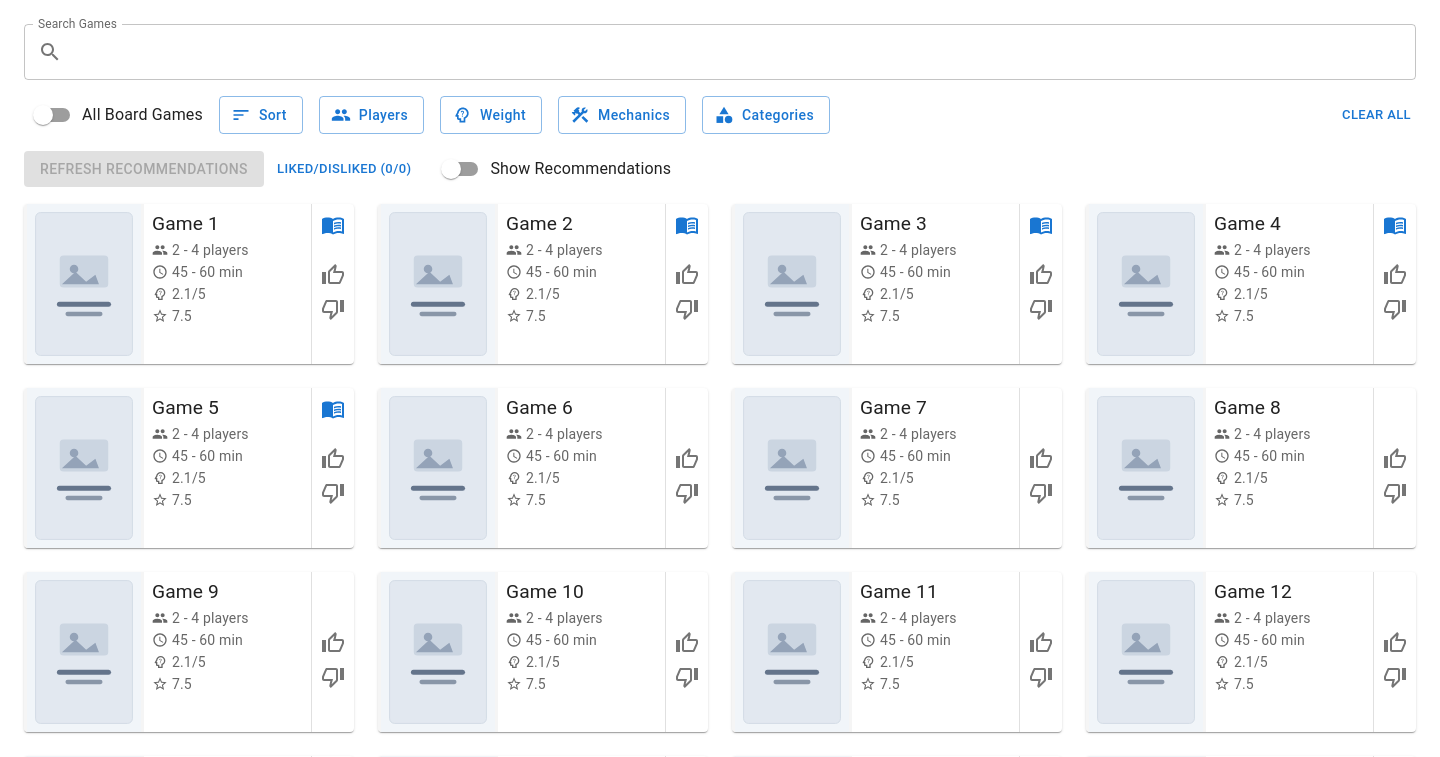
it: GameList › shows clear search control and clears input when clicked
In the field labelled "Search Games": [743, 52] box x1=70 y1=24 x2=1416 y2=80, type "Terraforming Mars"
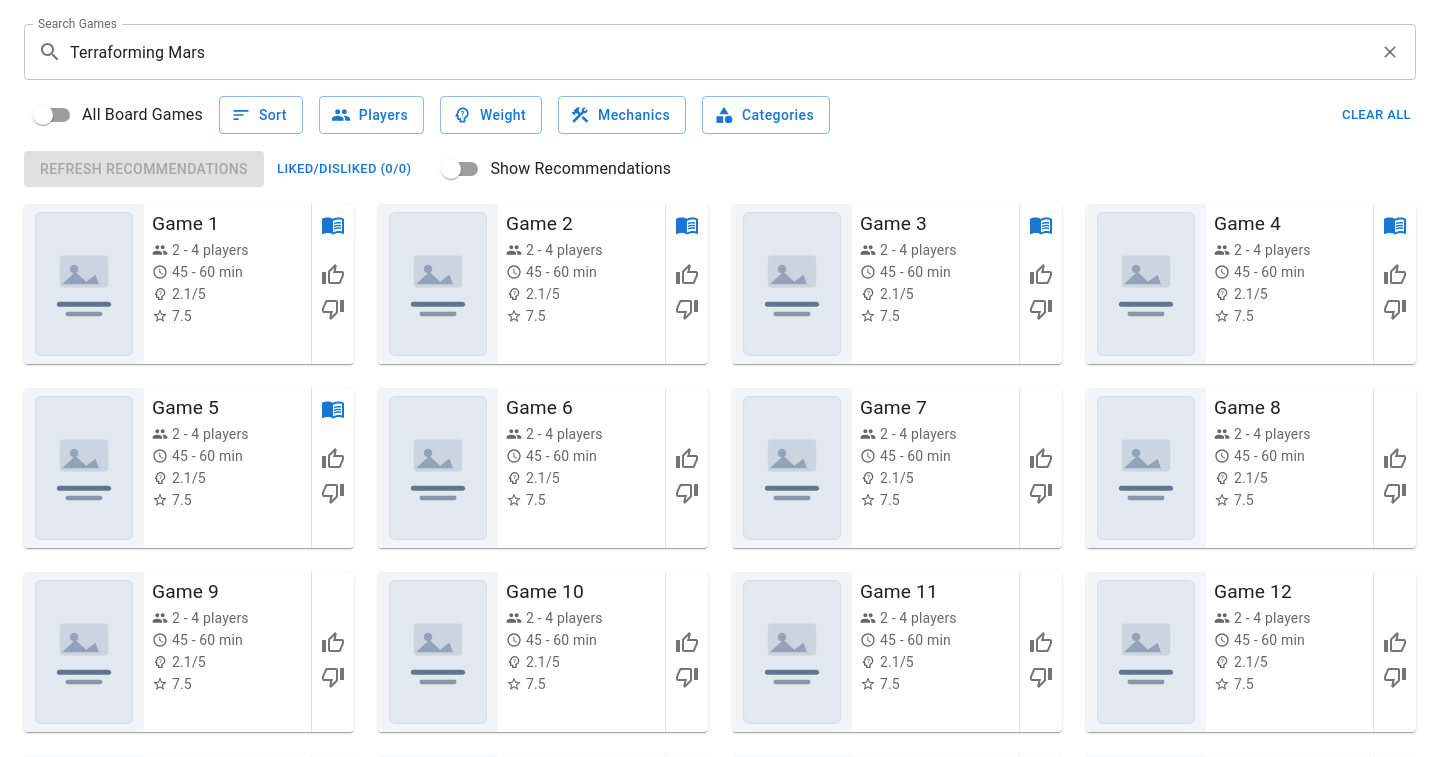
Click the button named "Clear search": [1390, 52] box x1=1375 y1=37 x2=1405 y2=67
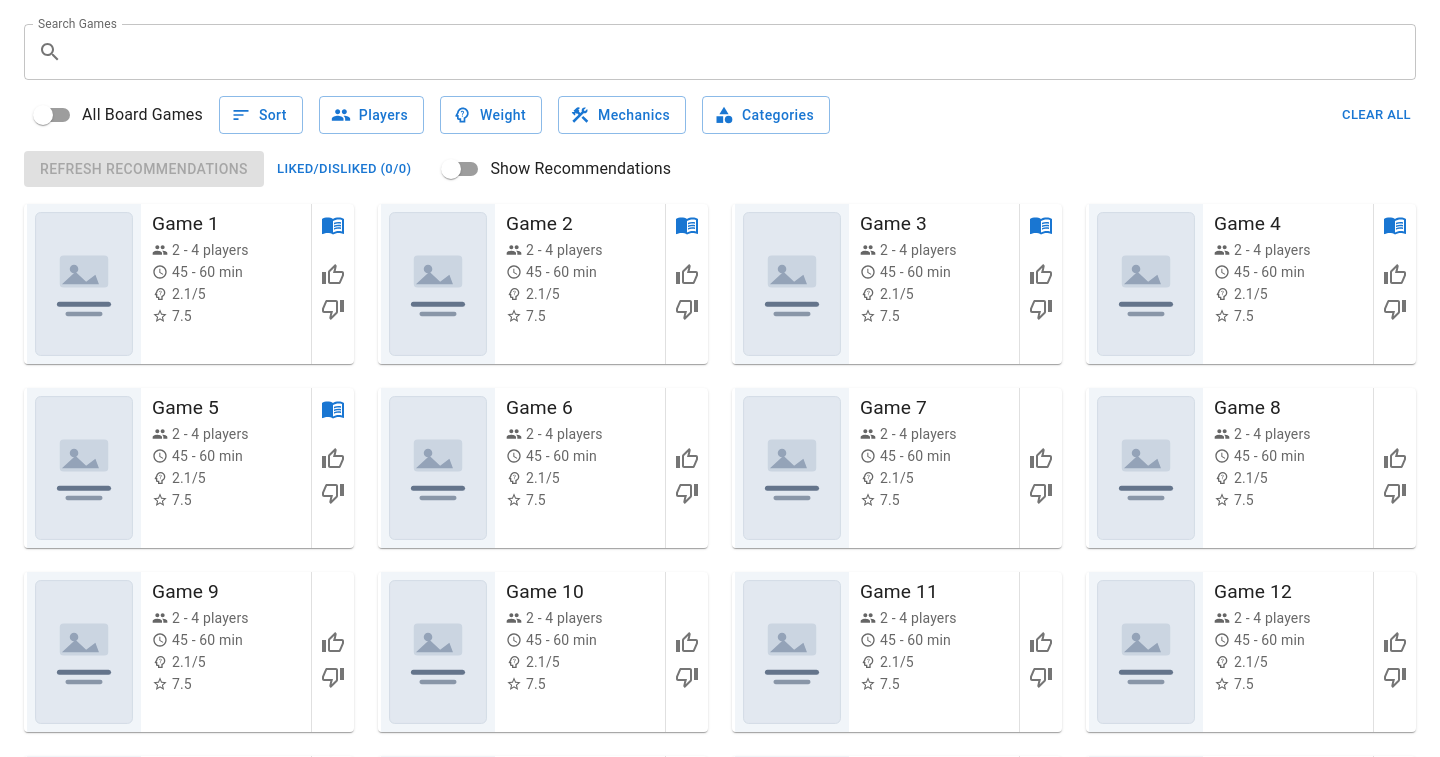
Expected: the field labelled "Search Games" is empty, x1=70 y1=24 x2=1416 y2=80
